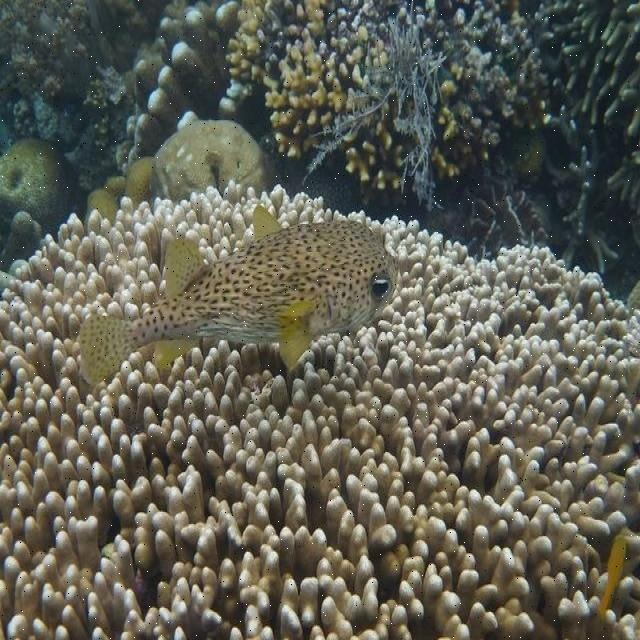fish: (79, 204, 399, 386), (596, 535, 628, 621)
reefs: (304, 3, 449, 213), (151, 120, 283, 207), (0, 136, 85, 238), (88, 157, 154, 226)
